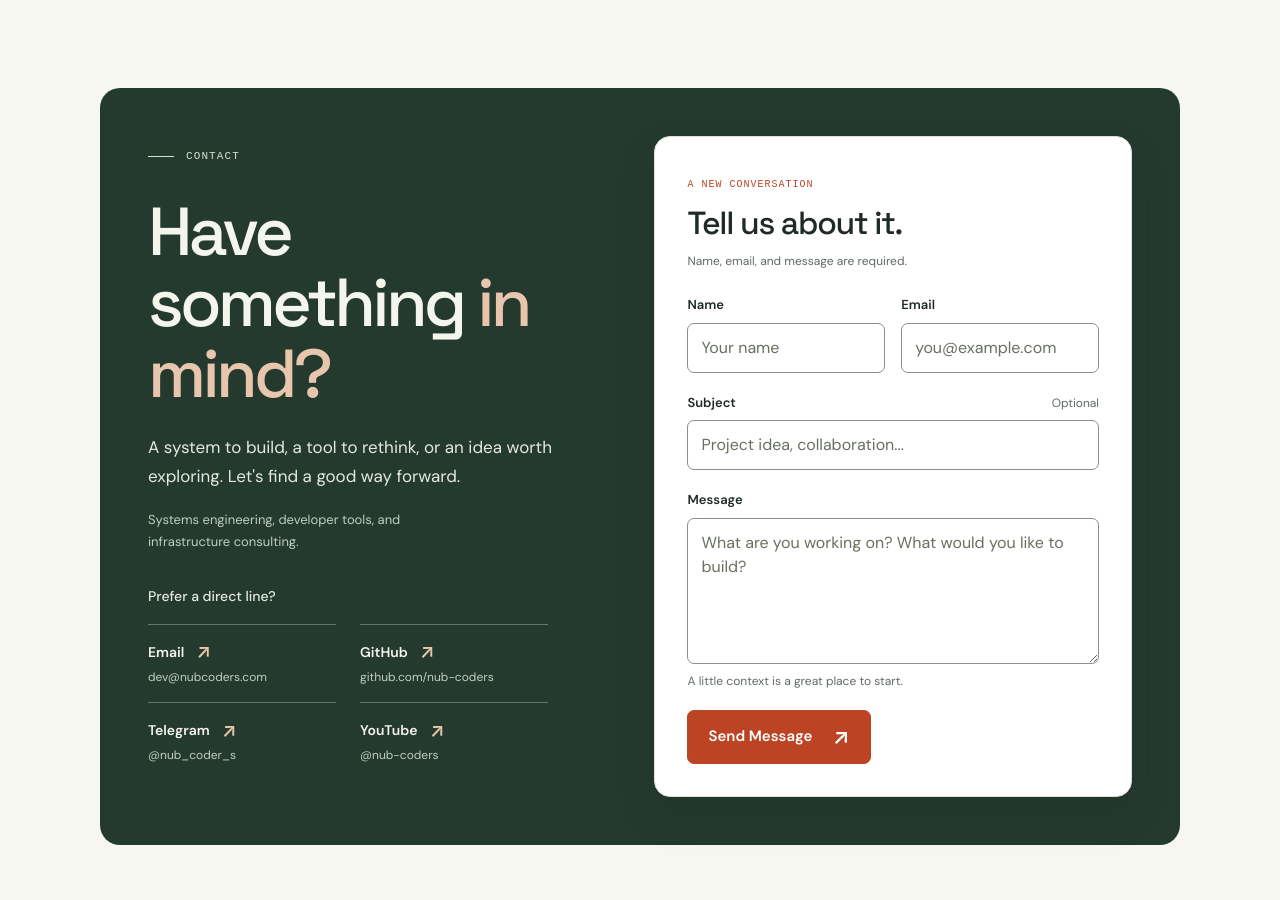
Test: ContactSection › rejects an invalid email before submitting
The width and height of the screenshot is (1280, 900).
In the field labelled "Name": [786, 348] box [688,323,885,373], type "Jane"
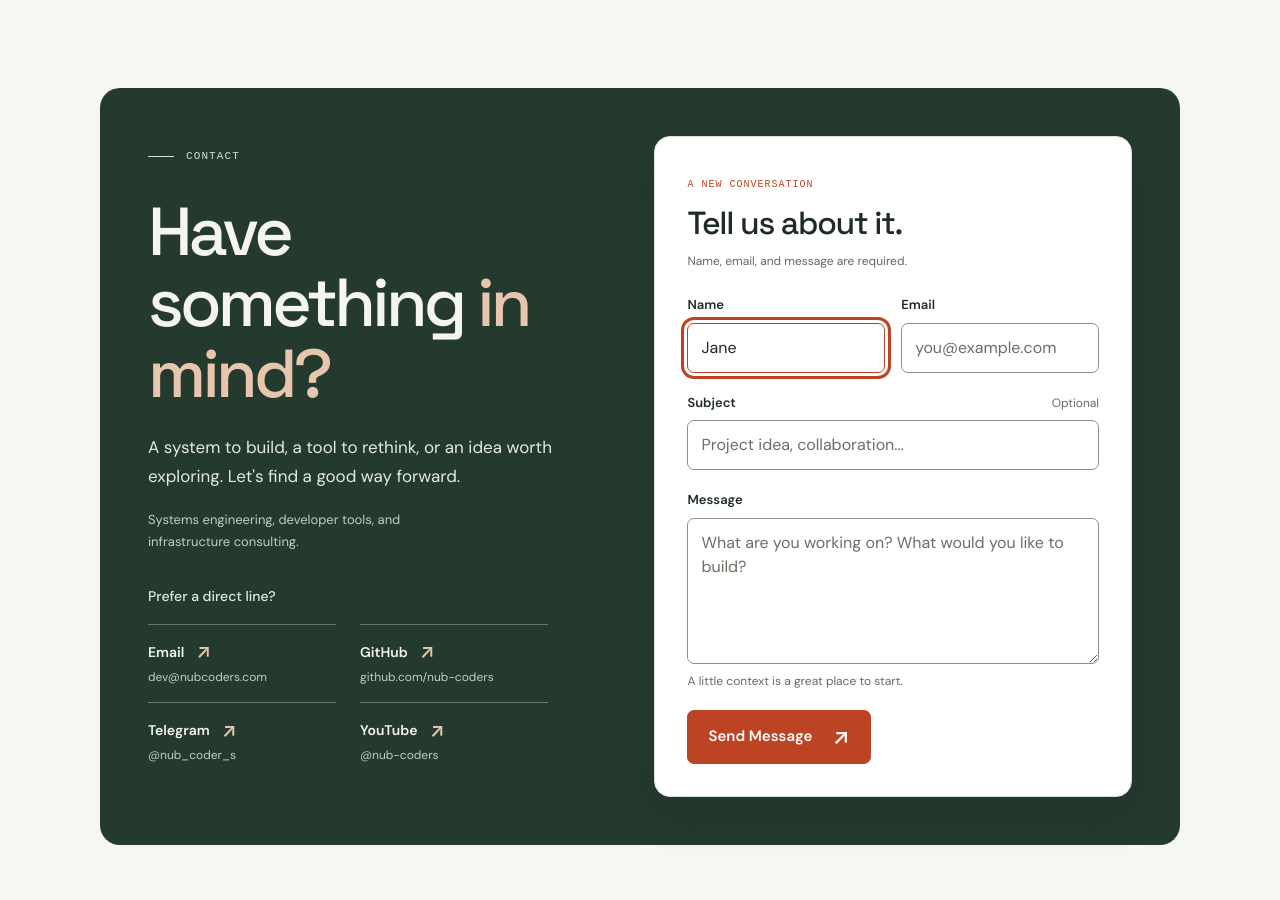
In the field labelled "Email": [1000, 348] box [901,323,1099,373], type "not-an-email"
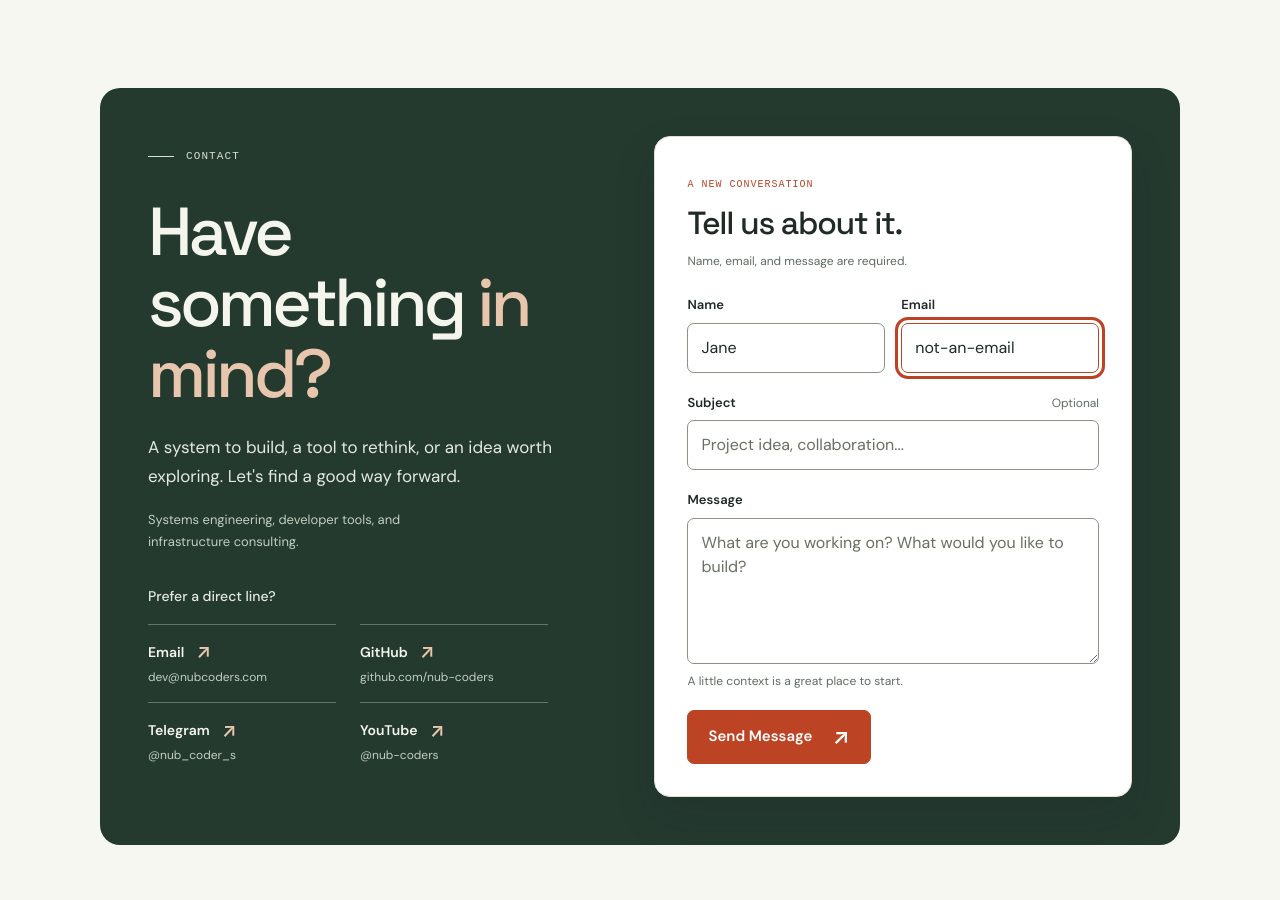
In the text box labelled "Message": [893, 591] box [688,518,1099,664], type "Hello"
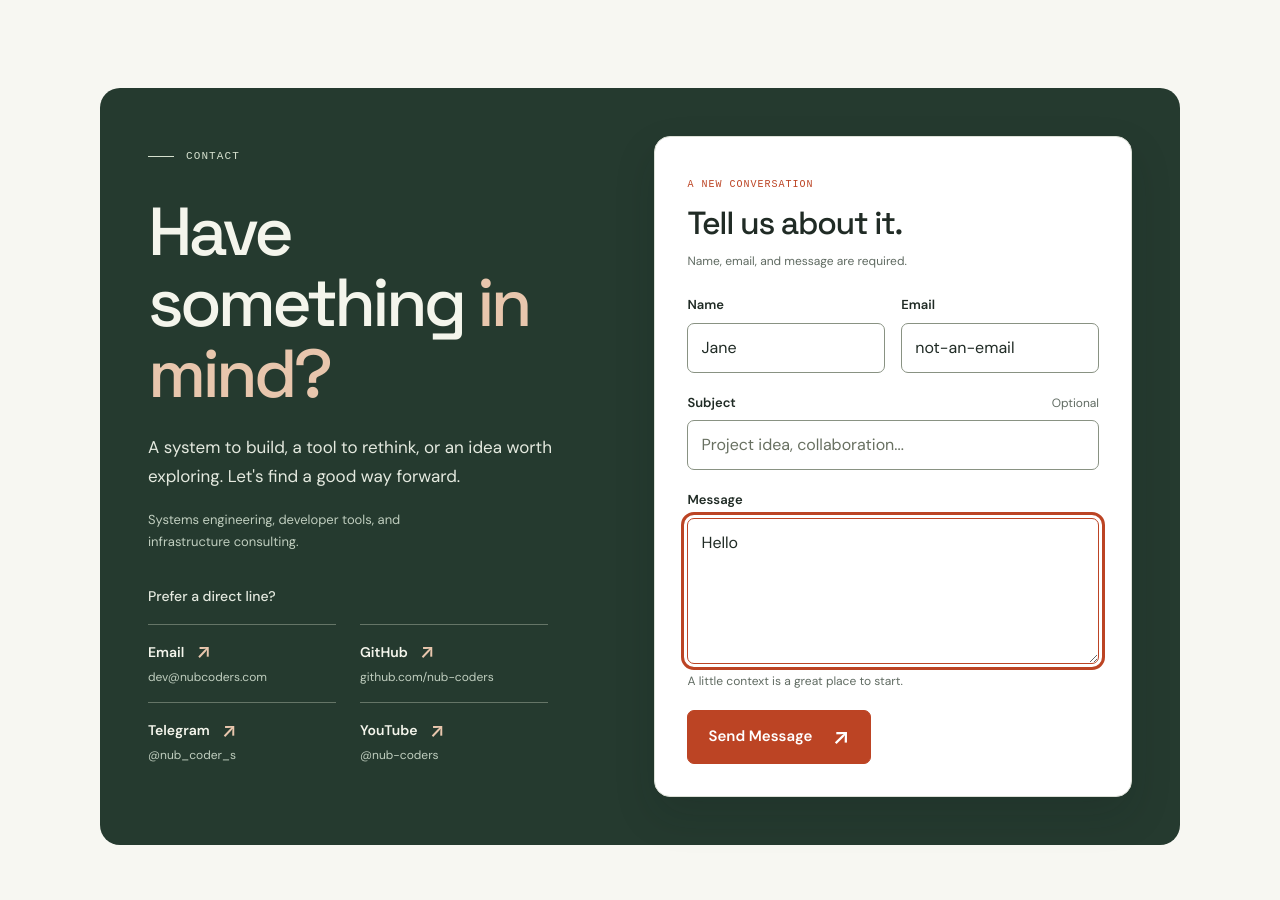
Click the button "Send Message ↗": [779, 737] box [688,710,871,764]
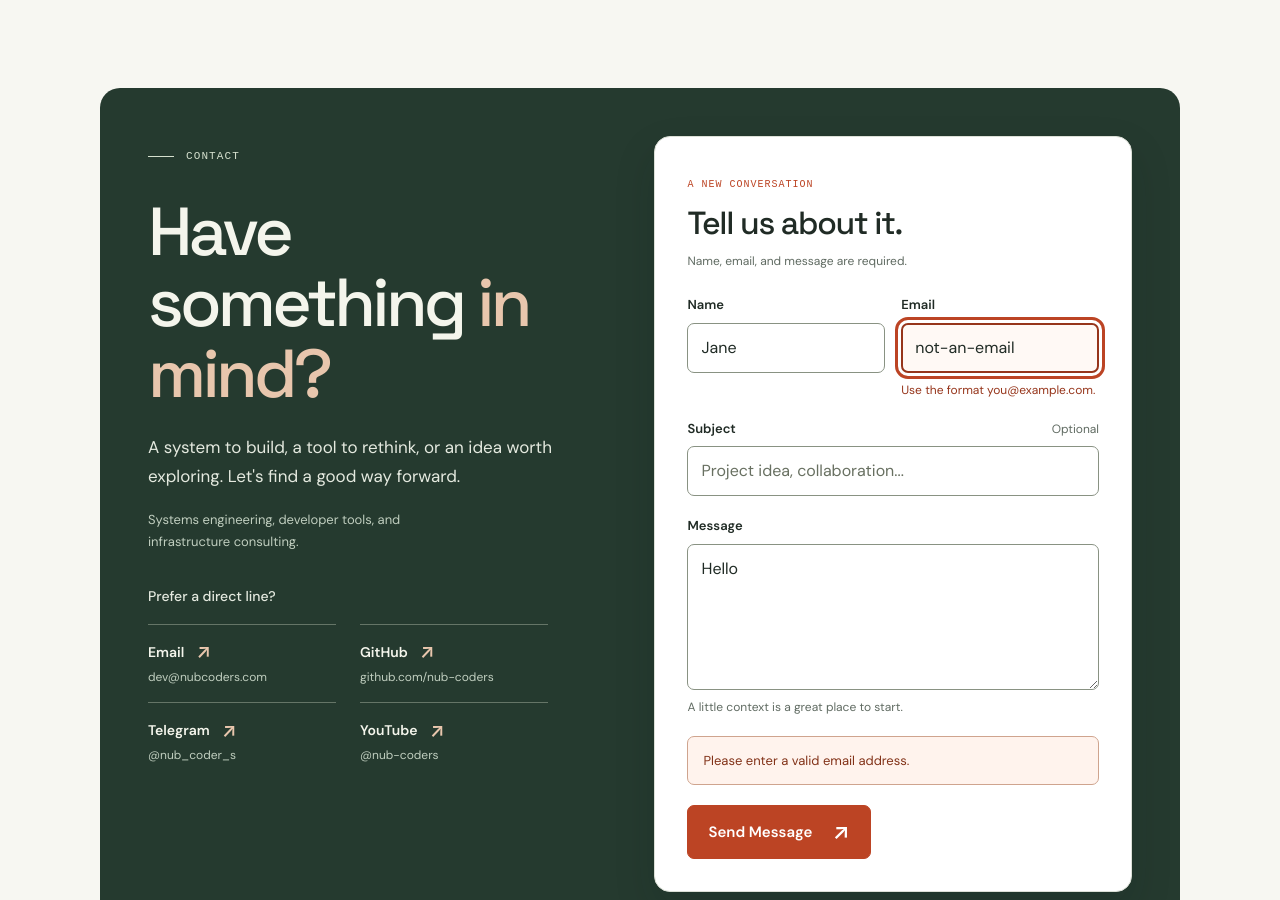
expect the text "Please enter a valid email address." is shown: met, box [688,736,1099,785]
